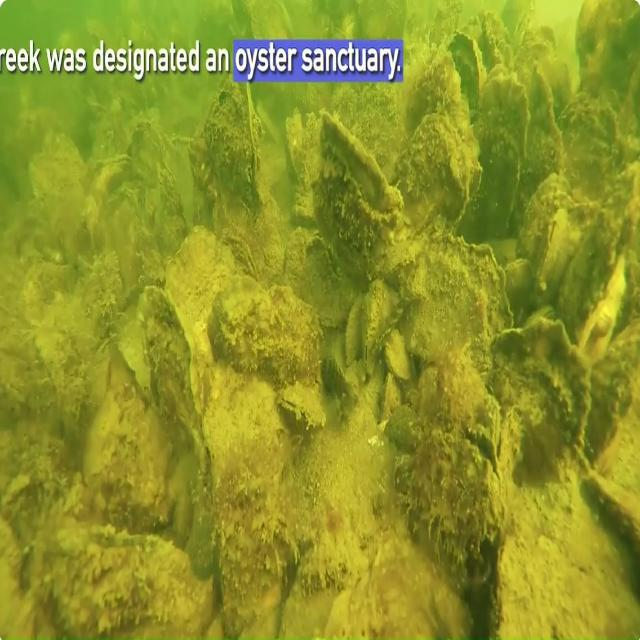Oyster- Indeterminate: (374, 412, 520, 605), (45, 514, 211, 640), (473, 312, 593, 480), (391, 211, 511, 377), (142, 285, 213, 436), (573, 435, 640, 571), (403, 110, 479, 222), (576, 255, 640, 381), (97, 188, 166, 299), (210, 263, 275, 363), (28, 131, 90, 232), (78, 390, 138, 486), (475, 127, 527, 235), (406, 48, 466, 139), (525, 58, 569, 179), (588, 159, 640, 255), (483, 53, 535, 146), (83, 134, 147, 201), (358, 277, 398, 381), (559, 218, 593, 321), (125, 114, 173, 183), (78, 327, 116, 414), (477, 0, 514, 69), (516, 23, 558, 76), (490, 0, 536, 47), (338, 293, 367, 363), (59, 383, 90, 446), (156, 187, 191, 240), (503, 255, 538, 302)
Oyster-Closed: (200, 58, 280, 222), (535, 200, 574, 305), (450, 26, 491, 115)
Oyster-Open: (300, 119, 408, 272), (567, 0, 640, 89), (264, 499, 303, 588), (274, 378, 326, 443), (225, 222, 269, 289), (2, 458, 36, 536)
